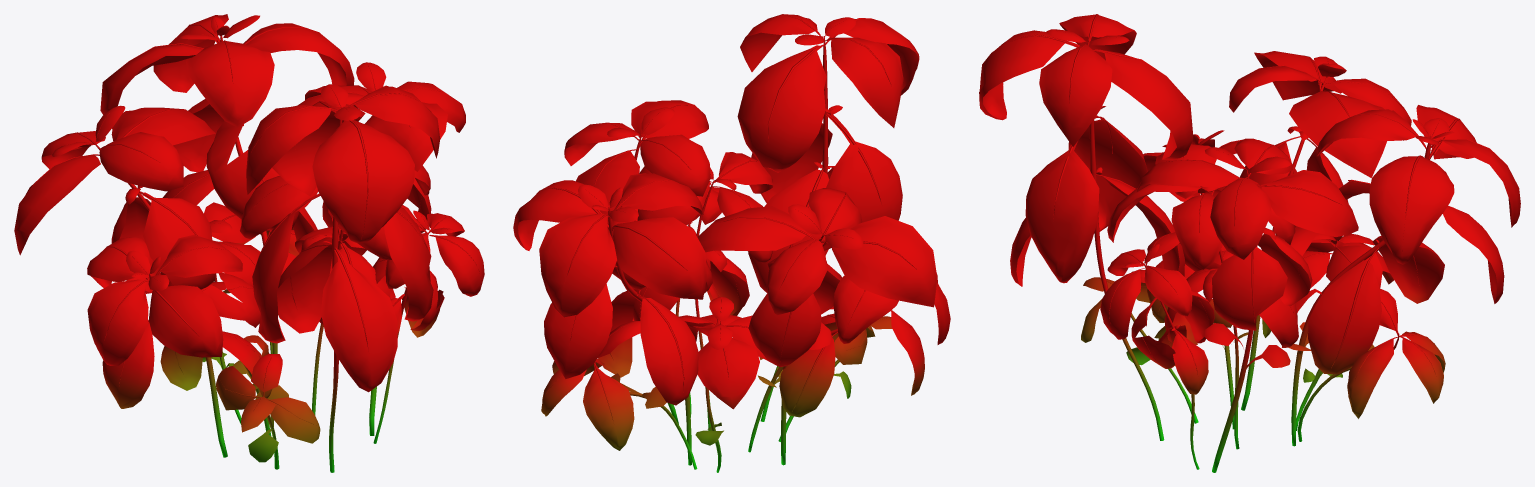
The model's file is Basil_LOD1_Var2_vgpochzia.fbx.
3 views of the same model, side by side, from view 1: azimuth 30°, elevation 25°; view 2: azimuth 150°, elevation 25°; view 3: azimuth 270°, elevation 25° (orthographic). The views are drawn at different scales.
Visible parts, largest first — view 1: _zngm_Var2_LOD1; view 2: _zngm_Var2_LOD1; view 3: _zngm_Var2_LOD1.
Boxes of the visible parts, x1=… form: _zngm_Var2_LOD1: x1=14, y1=14, x2=484, y2=472; _zngm_Var2_LOD1: x1=513, y1=14, x2=950, y2=472; _zngm_Var2_LOD1: x1=979, y1=14, x2=1520, y2=472.
Bounding box in the file's own units: 30.84 × 28.47 × 35.5.
